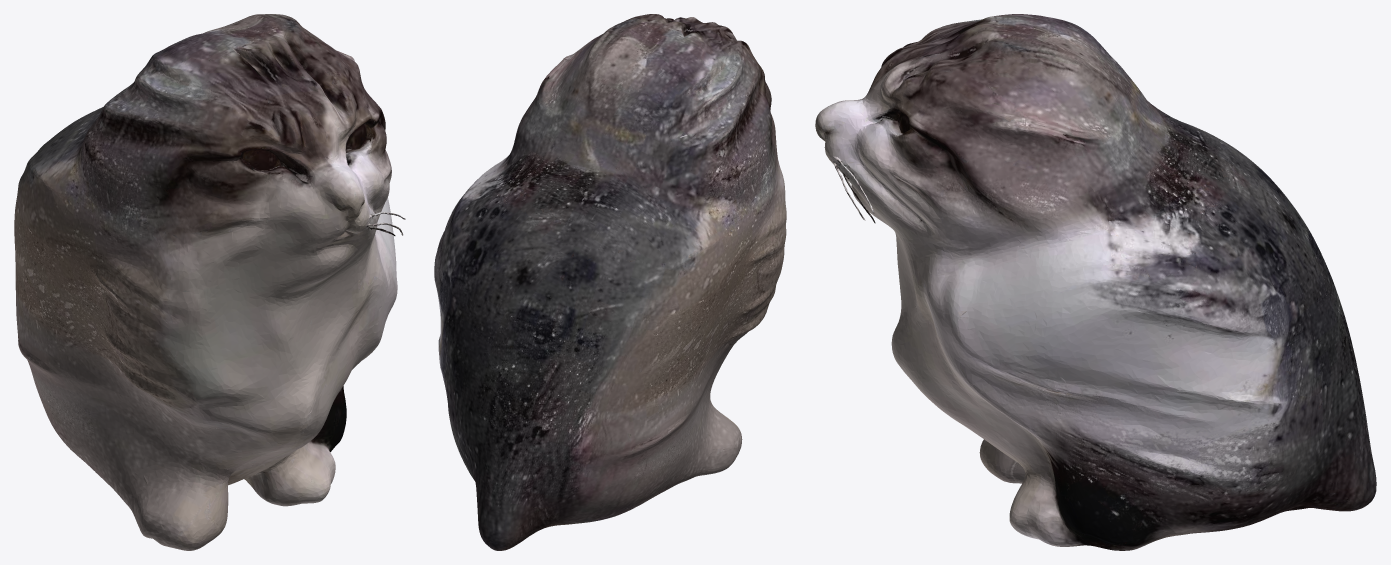
File: wawa 3d.glb
3 views of the same model, side by side, from view 1: azimuth 30°, elevation 25°; view 2: azimuth 150°, elevation 25°; view 3: azimuth 270°, elevation 25° (orthographic). The views are drawn at different scales.
Parts seen in each view (by area): view 1: cat.obj; view 2: cat.obj; view 3: cat.obj.
Boxes of the visible parts, x1,y1,x2,y2 form: cat.obj: [14, 14, 405, 550]; cat.obj: [434, 14, 786, 550]; cat.obj: [815, 14, 1376, 550].
Bounding box in the file's own units: 0.0652 × 0.1 × 0.1056.
Materials: 1 (1 with a texture image).
